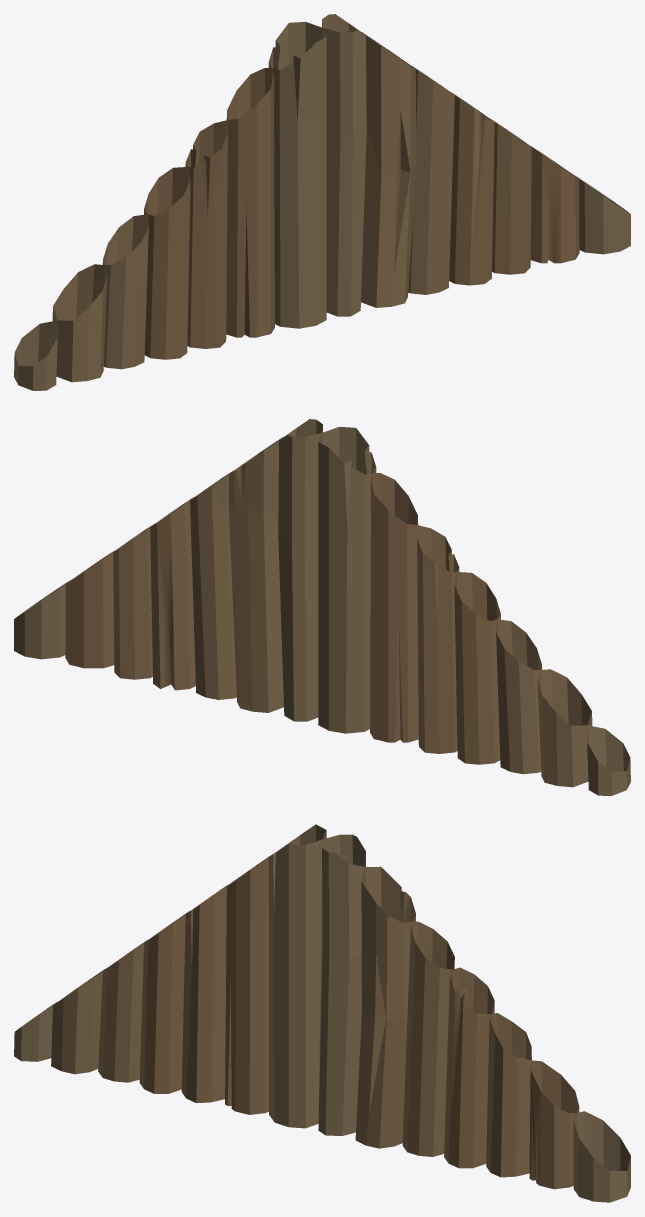
The model's file is rpgpp_ag_roof_end_01_6x3_wall_b.fbx.
3 views of the same model, one above another, from view 1: azimuth 30°, elevation 25°; view 2: azimuth 150°, elevation 25°; view 3: azimuth 330°, elevation 25° (orthographic).
Parts seen in each view (by area): view 1: rpgpp_ag_roof_end_01_6x3_wall_b; view 2: rpgpp_ag_roof_end_01_6x3_wall_b; view 3: rpgpp_ag_roof_end_01_6x3_wall_b.
Part boxes in pixels (box(x1,y1,x2,y2)): rpgpp_ag_roof_end_01_6x3_wall_b: box(14, 14, 630, 390); rpgpp_ag_roof_end_01_6x3_wall_b: box(14, 419, 630, 795); rpgpp_ag_roof_end_01_6x3_wall_b: box(14, 824, 630, 1202).
Bounding box in the file's own units: 6 × 2.67 × 0.4626.
